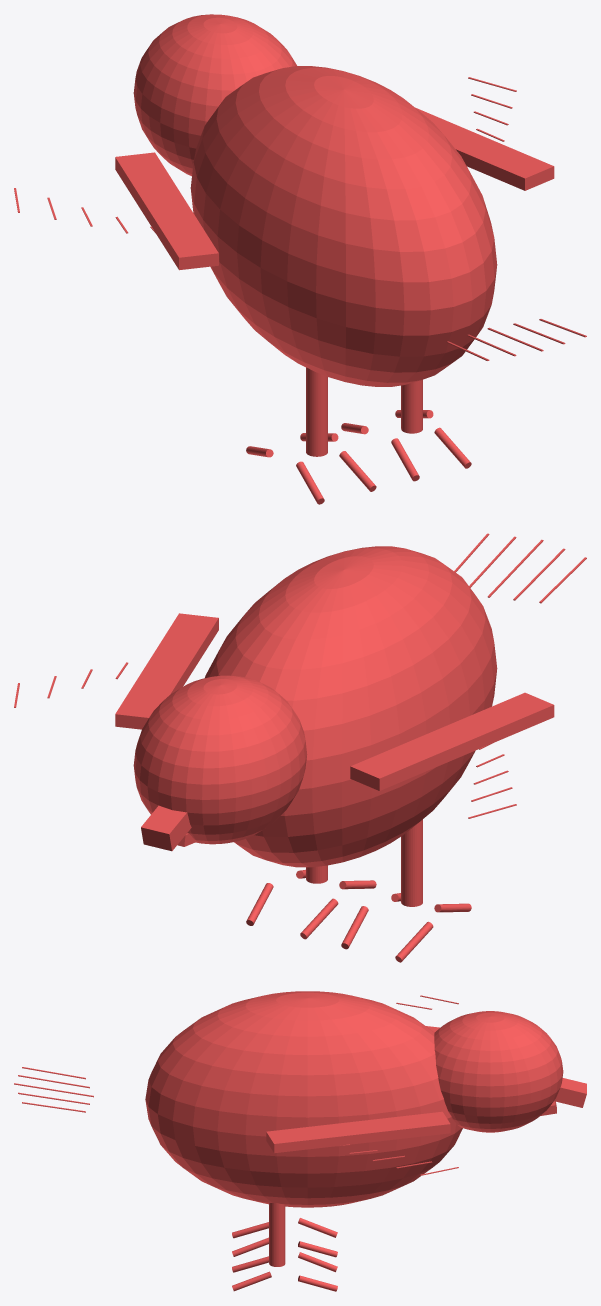
Rendered from parrot_medical.glb.
3 renders of one model, top to bottom at view 1: azimuth 30°, elevation 25°; view 2: azimuth 150°, elevation 25°; view 3: azimuth 270°, elevation 25°, orthographic. The views are drawn at different scales.
Visible parts, largest first — view 1: Parrot_Body, Parrot_Head, Wing_Left, Wing_Right, Leg_Left, Leg_Right; view 2: Parrot_Body, Parrot_Head, Wing_Left, Wing_Right, Leg_Left, Upper_Beak; view 3: Parrot_Body, Parrot_Head, Wing_Right, Leg_Right, Upper_Beak.
Boxes of the visible parts, bbox=[...] form: Parrot_Body: bbox=[190, 66, 497, 386]; Parrot_Head: bbox=[133, 14, 296, 176]; Wing_Left: bbox=[115, 152, 218, 270]; Wing_Right: bbox=[415, 107, 554, 190]; Leg_Left: bbox=[306, 367, 327, 456]; Leg_Right: bbox=[401, 379, 422, 433]; Parrot_Body: bbox=[205, 546, 497, 867]; Parrot_Head: bbox=[133, 675, 307, 844]; Wing_Left: bbox=[350, 692, 554, 790]; Wing_Right: bbox=[115, 613, 218, 729]; Leg_Left: bbox=[401, 819, 422, 906]; Upper_Beak: bbox=[141, 805, 191, 851]; Parrot_Body: bbox=[145, 991, 462, 1207]; Parrot_Head: bbox=[434, 1011, 563, 1132]; Wing_Right: bbox=[266, 1111, 450, 1153]; Leg_Right: bbox=[269, 1203, 285, 1266]; Upper_Beak: bbox=[554, 1078, 586, 1107].
Bounding box in the file's own units: 4.2 × 2.9 × 5.65.
